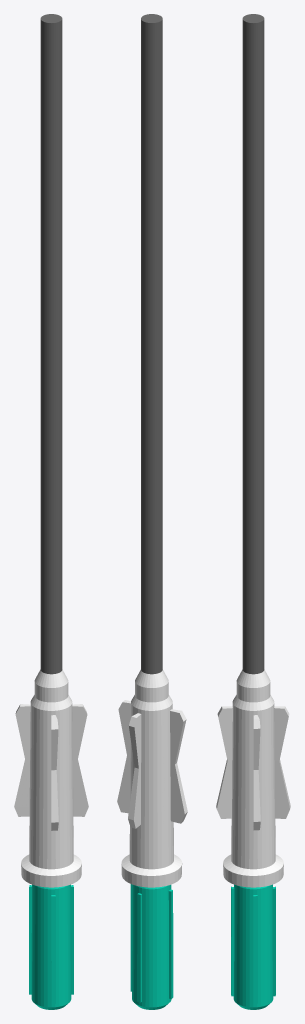
File: CateterModelo.fbx
3 renders of one model, left to right at view 1: azimuth 90°, elevation 25°; view 2: azimuth 150°, elevation 25°; view 3: azimuth 270°, elevation 25°, orthographic.
Parts seen in each view (by area): view 1: Cylinder; view 2: Cylinder; view 3: Cylinder.
Boxes of the visible parts, bbox=[...] form: Cylinder: bbox=[14, 14, 88, 1009]; Cylinder: bbox=[117, 14, 187, 1009]; Cylinder: bbox=[216, 14, 290, 1009].
Size of the model in its own units: 3.45 by 50.11 by 3.45.
